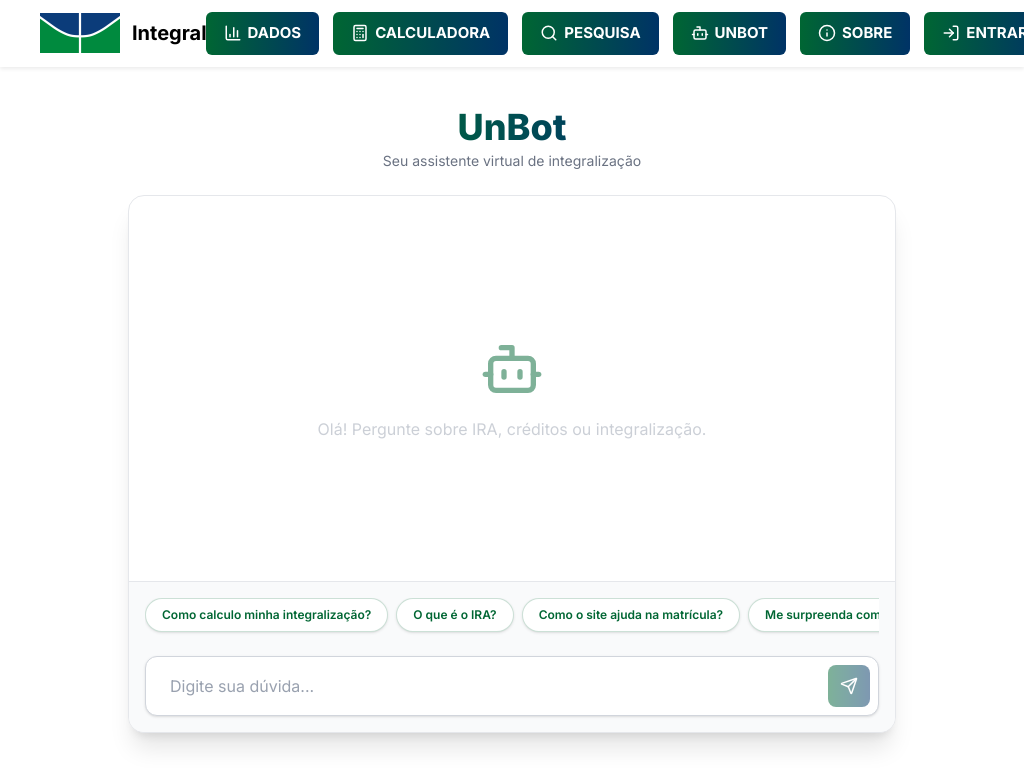
Página UnBot (Chatbot) › deve enviar uma mensagem e exibir a resposta da IA
This screenshot has width=1036, height=768.
Type "O que é IRA?" into the field with placeholder "Digite sua dúvida..." at (487, 686), box x1=154 y1=666 x2=820 y2=706
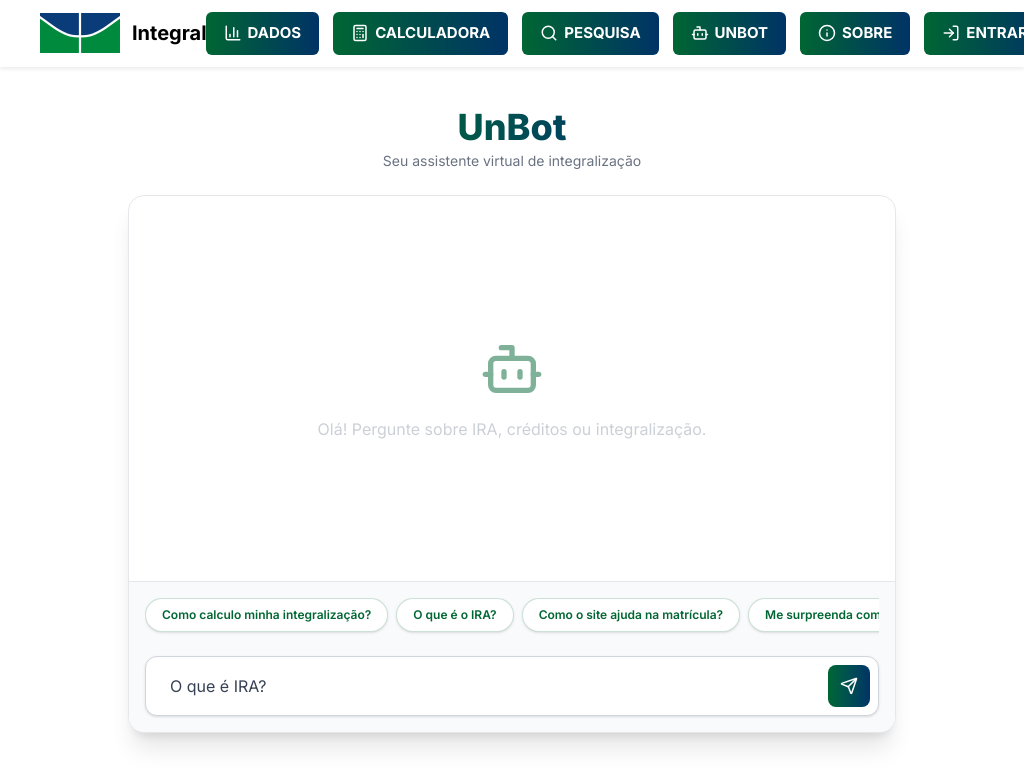
Click the 5th button at (849, 686), box x1=828 y1=665 x2=870 y2=707
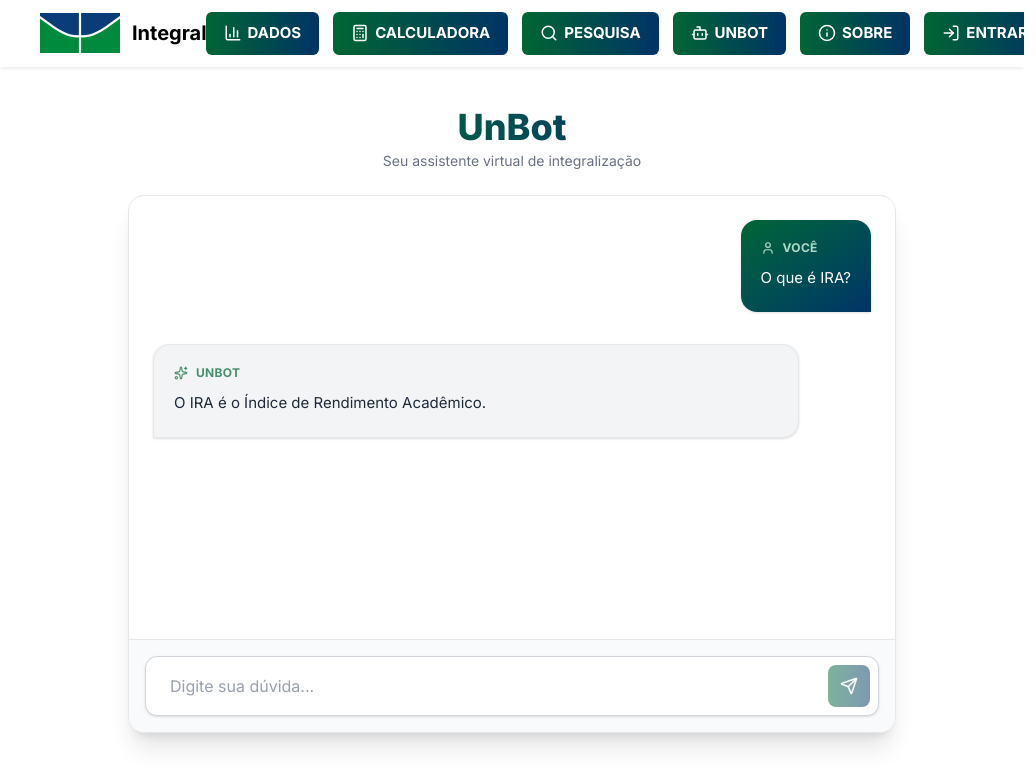
Expected: the text "O IRA é o Índice de Rendimento Acadêmico." is shown, x1=174 y1=393 x2=486 y2=412
